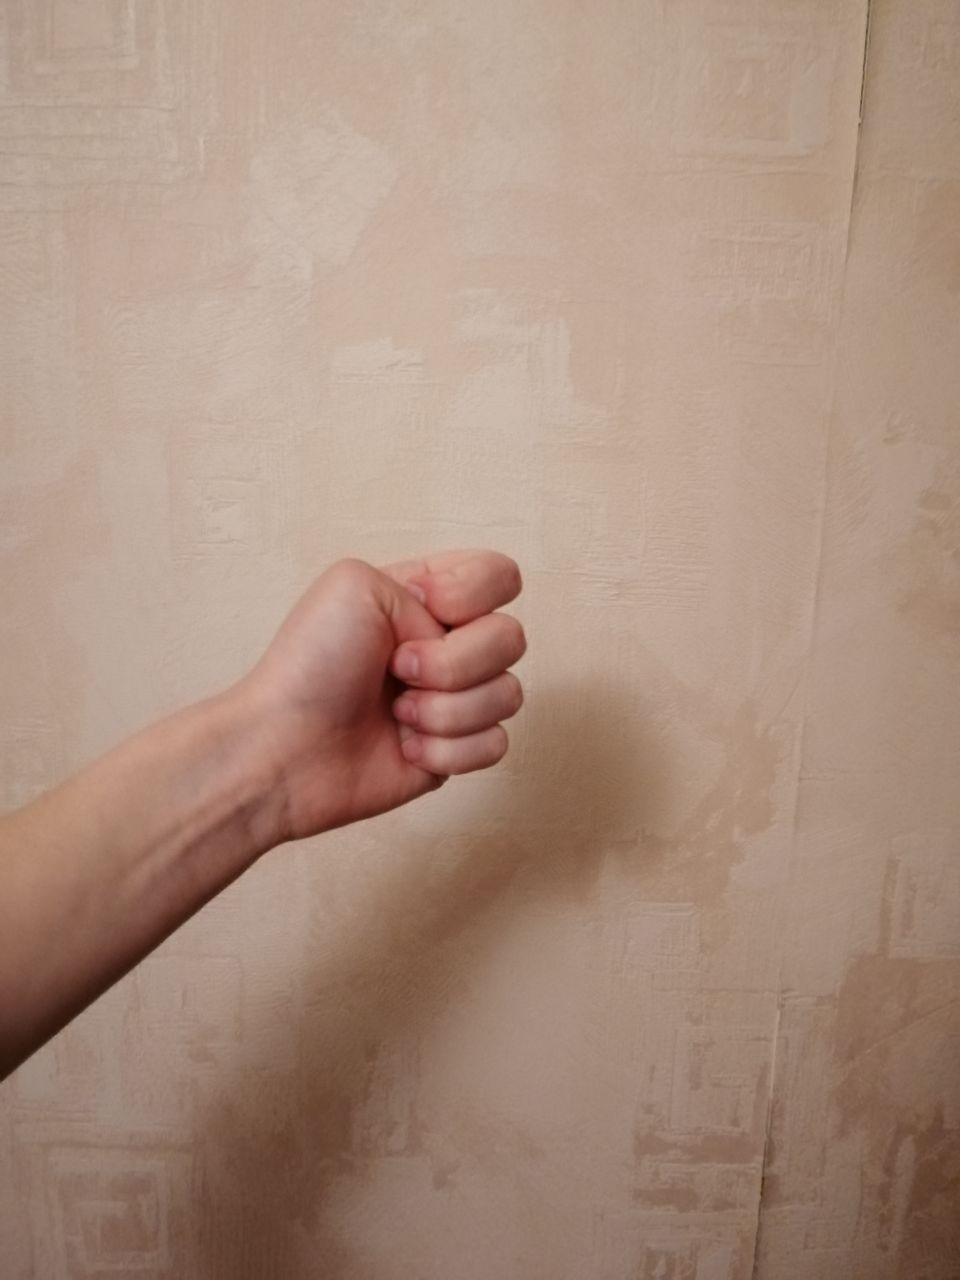hand: (298, 566, 509, 764)
